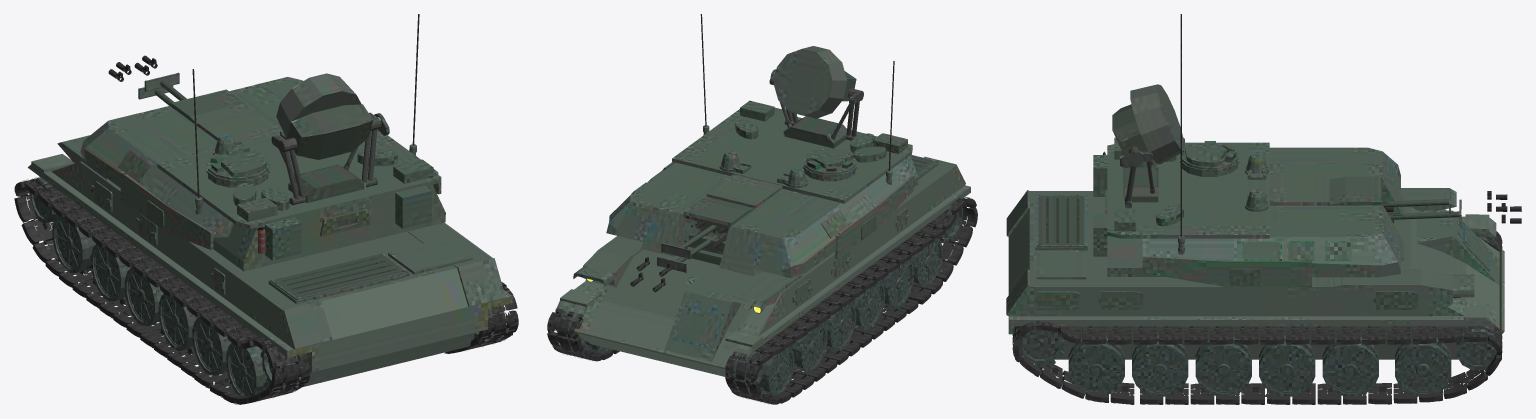
The model's file is zsu23_4.glb.
3 renders of one model, left to right at view 1: azimuth 30°, elevation 25°; view 2: azimuth 150°, elevation 25°; view 3: azimuth 270°, elevation 25°, orthographic. The views are drawn at different scales.
Visible parts, largest first — view 1: zsu23_4; view 2: zsu23_4; view 3: zsu23_4.
Boxes of the visible parts, x1,y1,x2,y2 form: zsu23_4: [14, 14, 518, 404]; zsu23_4: [547, 14, 977, 404]; zsu23_4: [1006, 14, 1521, 404].
Bounding box in the file's own units: 3.36 × 3.96 × 6.54.
12 materials, 11 textured.
